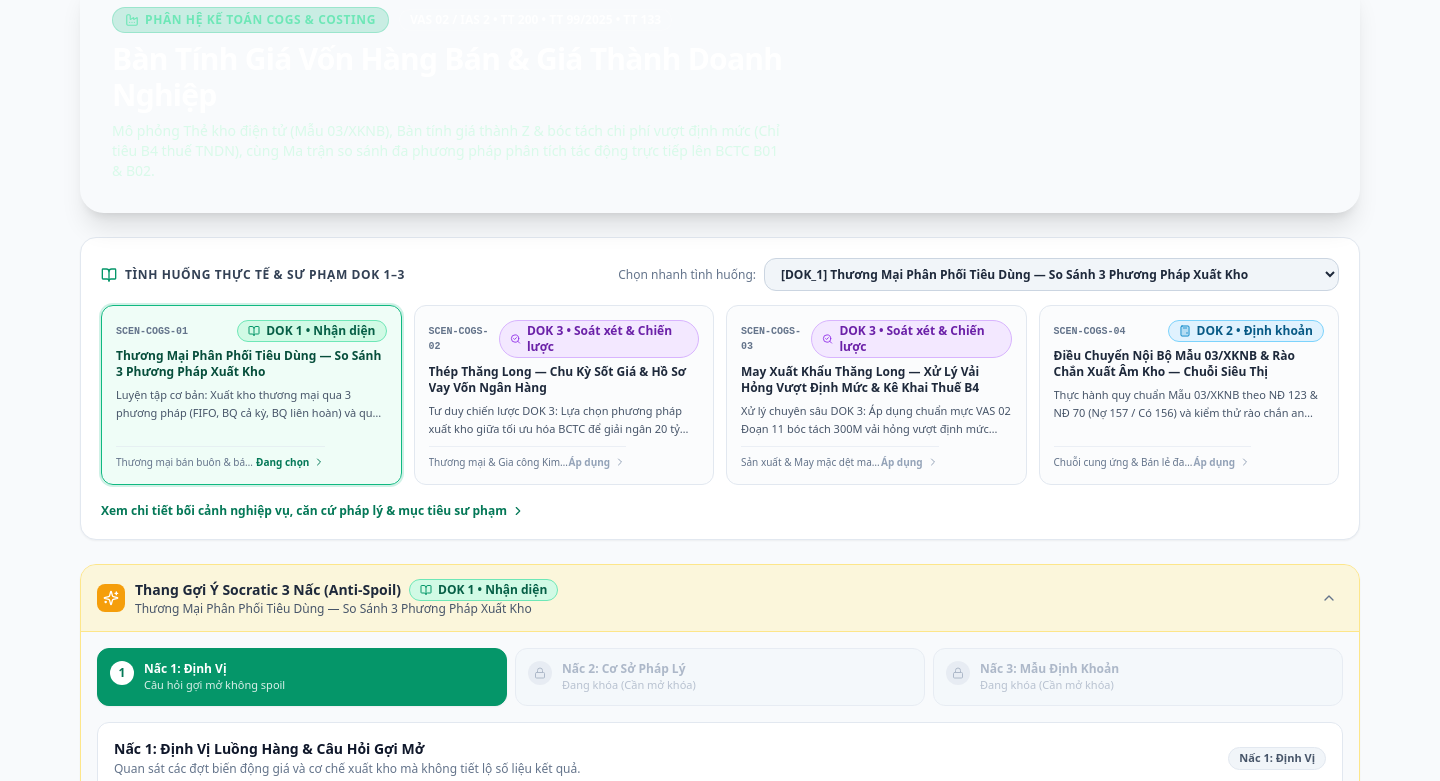
it: COGS & Cost Accounting Workbench Container & Shell Integration (CogsWorkbench.tsx) › T5.3: Loads DOK 3 Scenario "Thép Thăng Long" into Stock Card and Comparison Matrix with rising price trend
Select Scenario 2 (Thép Thăng Long DOK 3)
Click the button with test id "scenario-select-btn-scen-cogs-02". click: [459, 332]
box: [414,305,714,485]
(page scrolled)
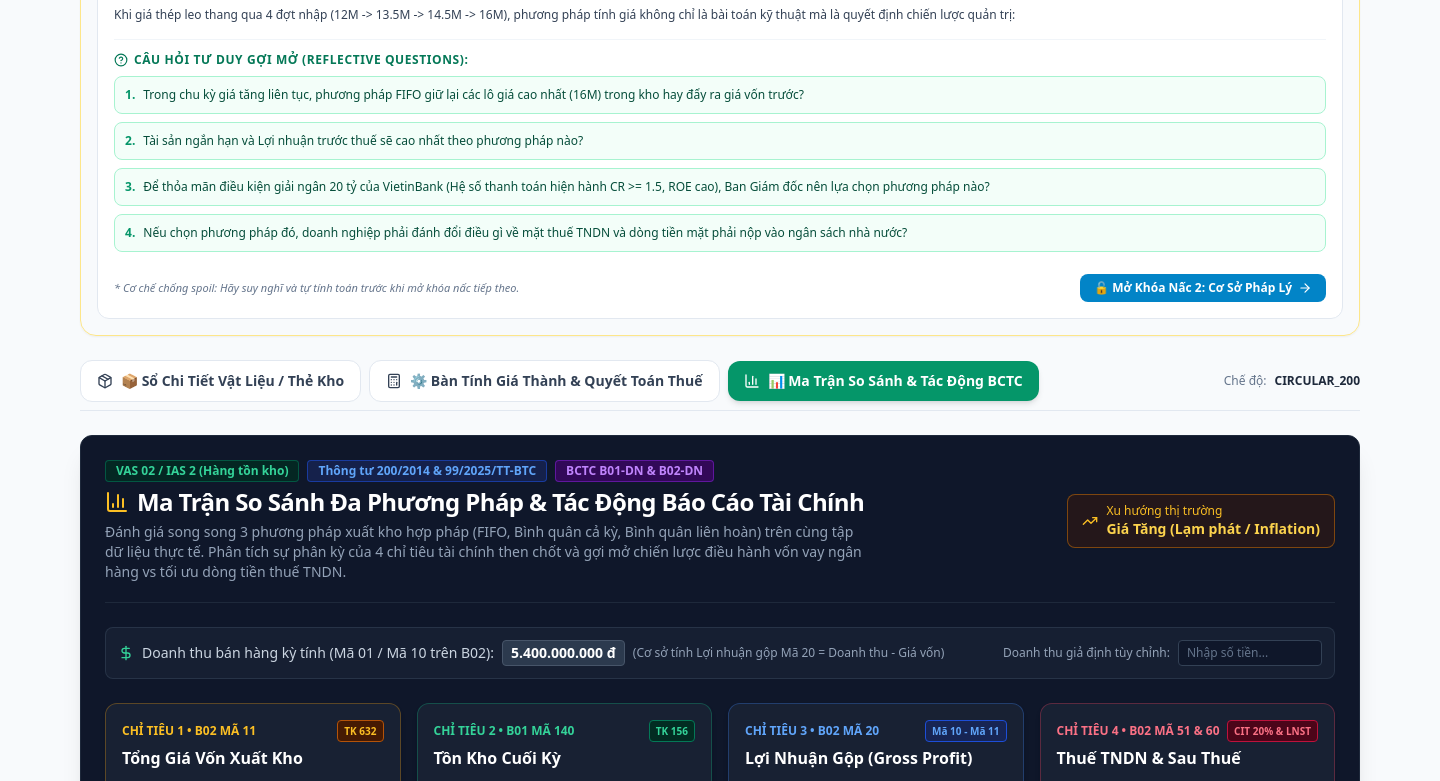
Switch to Stock Card tab to verify transactions
Click the button with test id "subtab-stock-card". click: [221, 381]
box: [80,360,361,402]
(page scrolled)
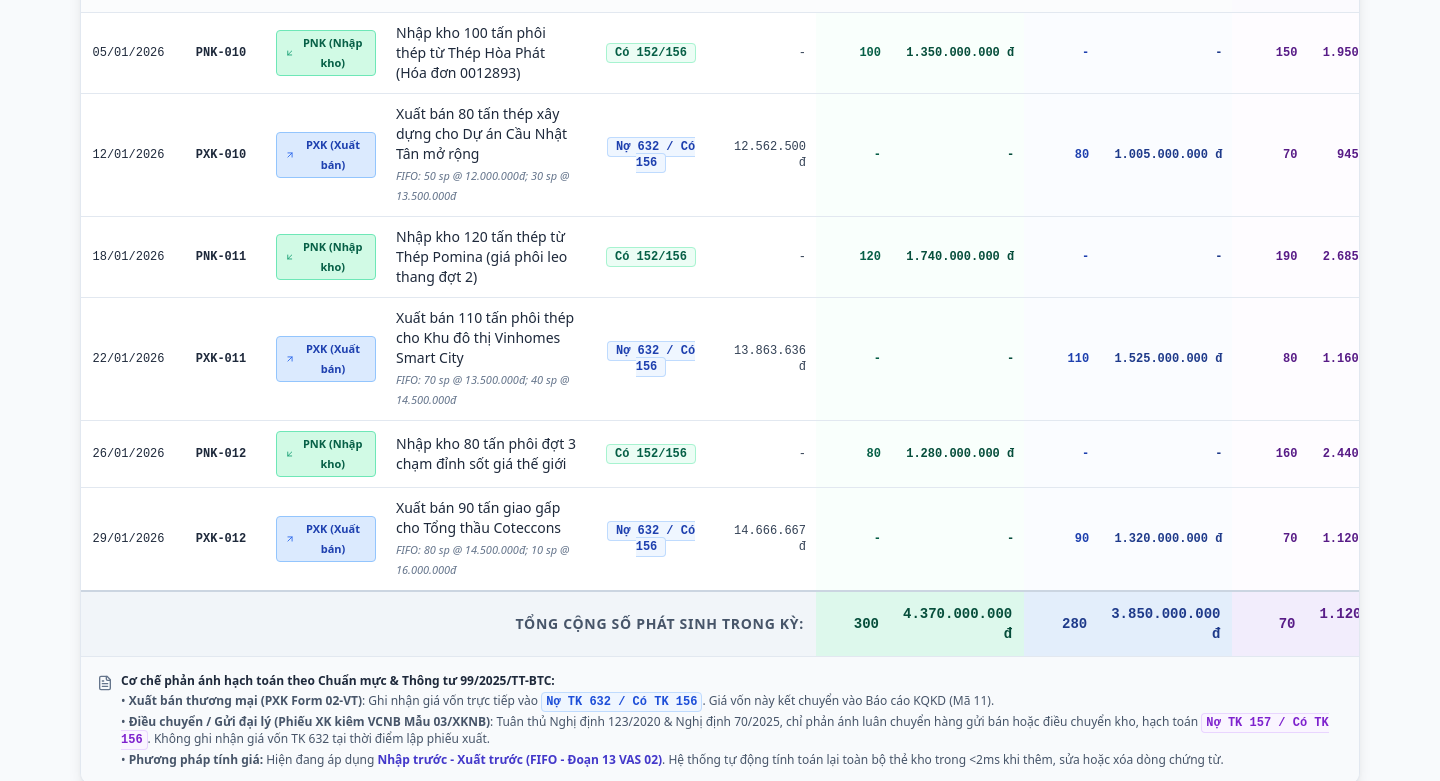
Now the text "Thép Hòa Phát" is shown, box [396,23,546,82]
Now the text "Xuất bán 80 tấn thép xây dựng cho Dự án Cầu Nhật Tân mở rộng" is shown, box [396,104,576,164]
Now the text "Xuất bán 90 tấn giao gấp cho Tổng thầu Coteccons" is shown, box [396,498,576,538]
